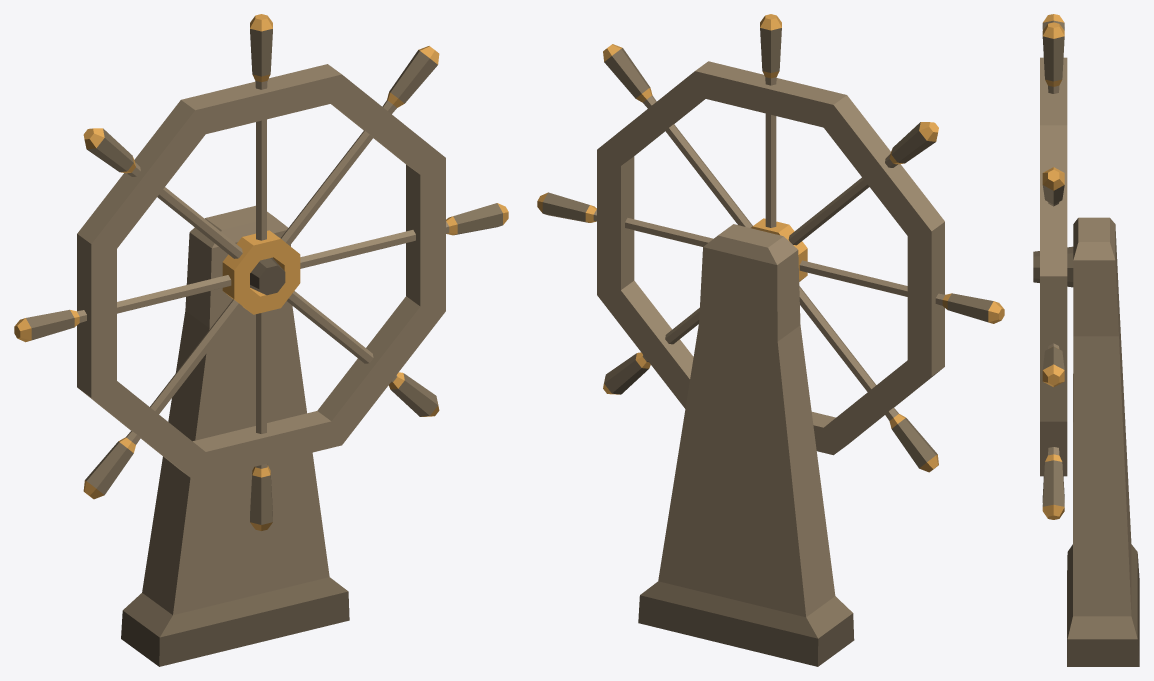
File: Steering-Wheel.fbx
3 renders of one model, left to right at view 1: azimuth 30°, elevation 25°; view 2: azimuth 150°, elevation 25°; view 3: azimuth 270°, elevation 25°, orthographic. The views are drawn at different scales.
Visible parts, largest first — view 1: Steering-Wheel-Stamp.001; view 2: Steering-Wheel-Stamp.001; view 3: Steering-Wheel-Stamp.001.
Part boxes in pixels (bbox=[...]): Steering-Wheel-Stamp.001: bbox=[14, 14, 508, 666]; Steering-Wheel-Stamp.001: bbox=[537, 14, 1004, 666]; Steering-Wheel-Stamp.001: bbox=[1033, 14, 1139, 666].
Size of the model in its own units: 124 by 153 by 24.62.
